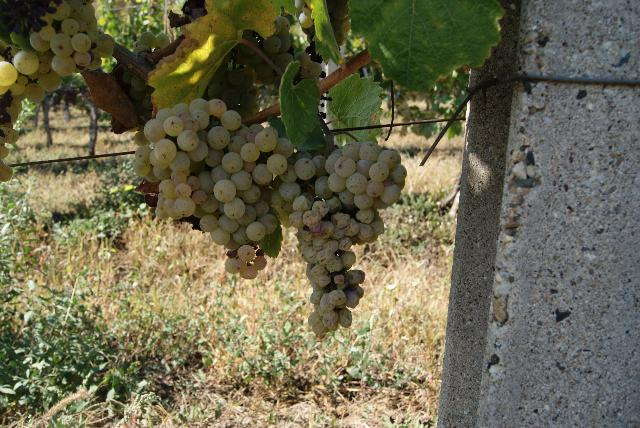grapes: (134, 99, 288, 278), (270, 141, 406, 335)
